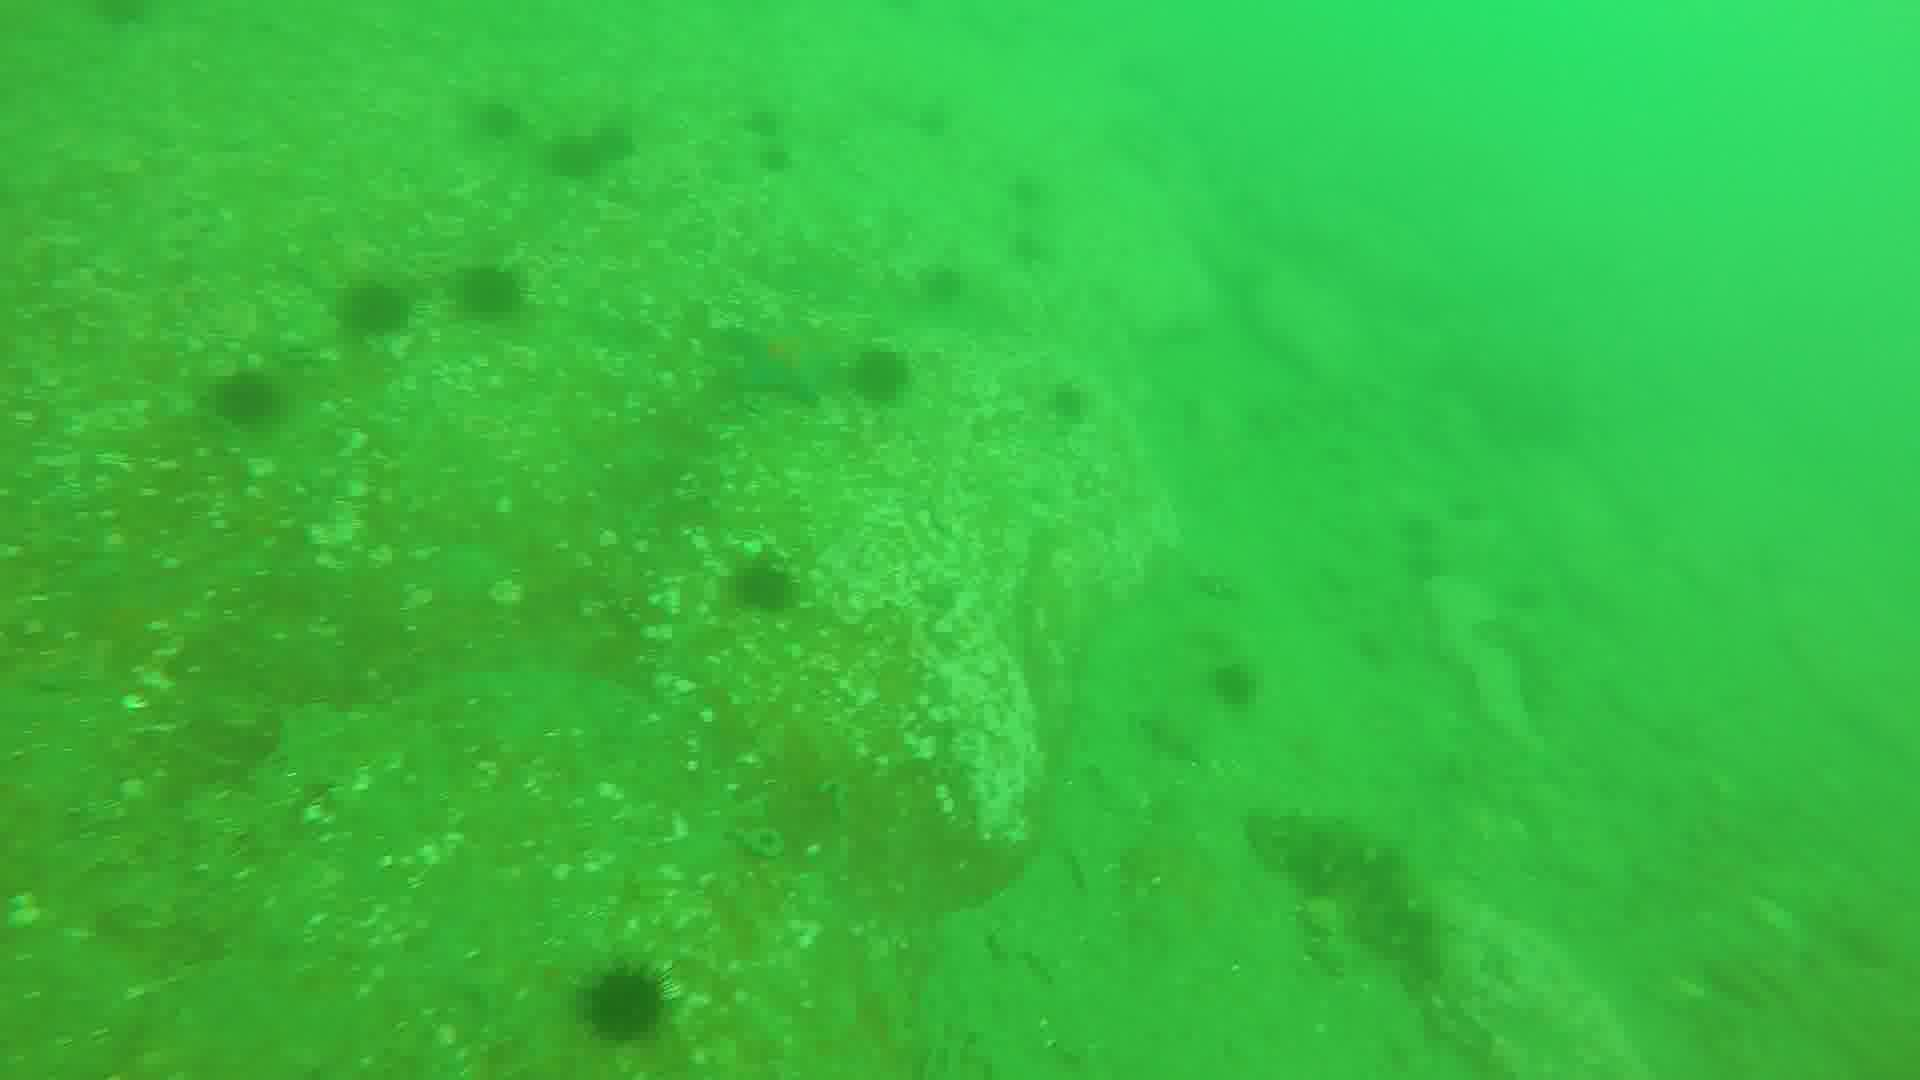echinus: (583, 967, 671, 1048), (339, 277, 421, 342), (735, 553, 812, 617), (222, 367, 289, 425), (849, 344, 910, 407), (462, 266, 527, 324), (549, 121, 593, 185), (477, 98, 534, 140), (593, 124, 645, 169), (1048, 382, 1104, 423), (1208, 662, 1254, 707), (918, 261, 960, 309)
holothurian: (1250, 808, 1443, 971)
starfish: (733, 320, 843, 409)
